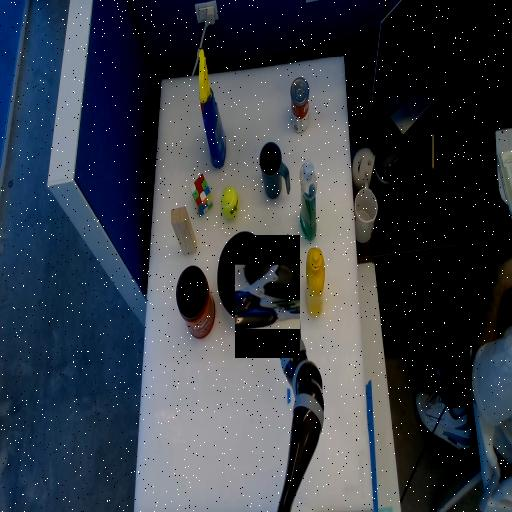bowl: (218, 232, 268, 318)
cleanser: (300, 162, 316, 241)
coffee_can: (176, 267, 214, 338)
jaco: (235, 264, 300, 329)
meat_can: (267, 244, 289, 298)
mug: (258, 156, 289, 186)
mustard_bottle: (305, 273, 324, 292)
rubik: (190, 174, 212, 217)
soup_can: (290, 78, 308, 133)
tennis_ball: (221, 188, 238, 218)
windex: (198, 49, 225, 167)
wooden_block: (170, 219, 195, 244)
workspace: (135, 57, 372, 509)
